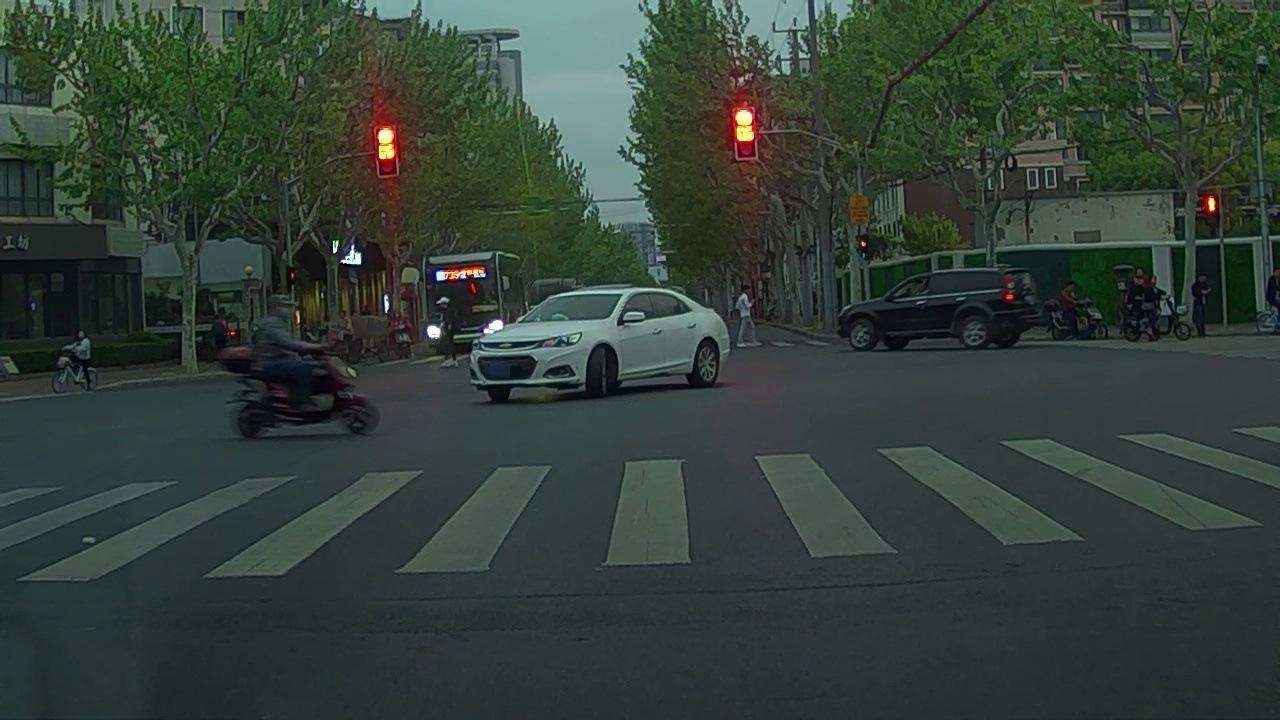traffic_light: (735, 107, 759, 159), (376, 126, 396, 175)
